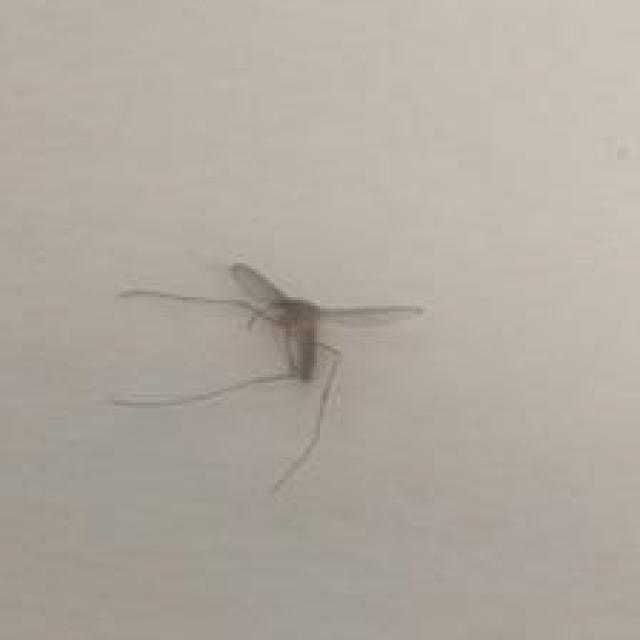Culex: (108, 260, 426, 494)
